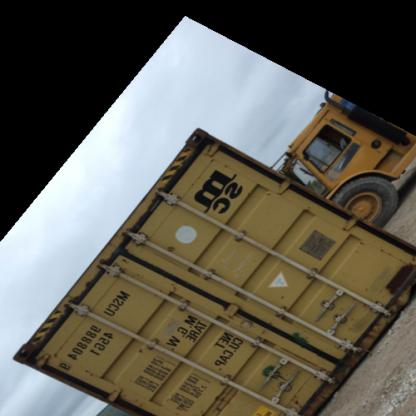Damage: (182, 132, 220, 168), (254, 356, 290, 390), (20, 338, 48, 372), (160, 240, 180, 271)
